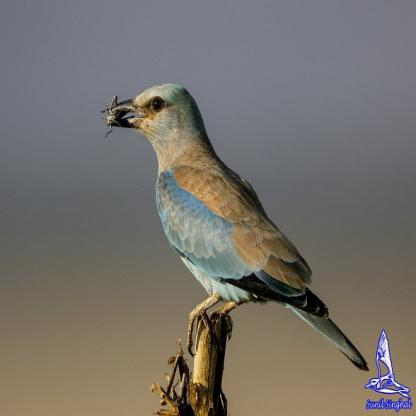Burung: (106, 83, 371, 375)
